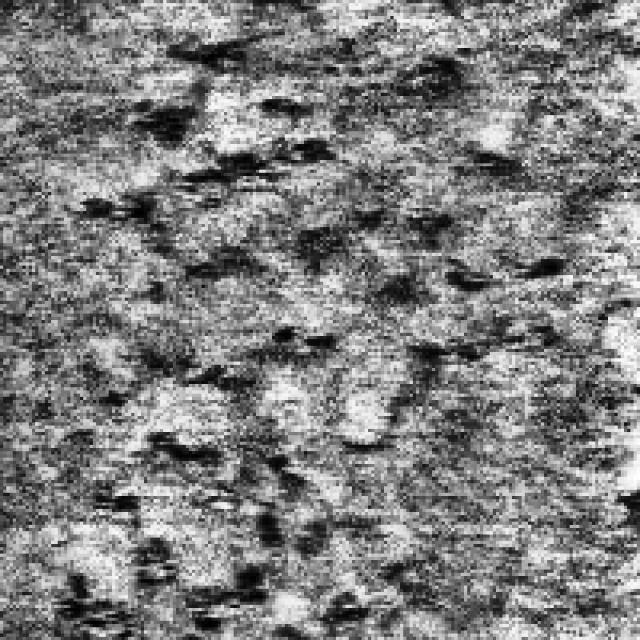Crazing: (112, 211, 557, 394), (55, 422, 388, 628), (70, 12, 362, 230)
